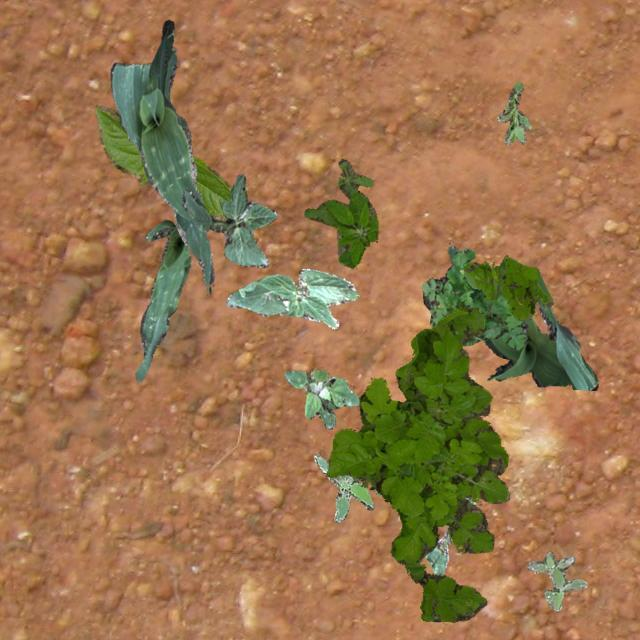crop: (110, 18, 214, 292), (446, 244, 596, 390), (93, 103, 230, 220), (180, 172, 276, 266), (134, 220, 190, 380), (224, 268, 358, 328), (424, 496, 474, 574)
weed: (326, 306, 508, 620), (421, 248, 526, 348), (303, 158, 377, 266), (462, 256, 552, 318), (282, 370, 358, 428), (314, 454, 372, 522), (526, 550, 586, 610), (496, 80, 530, 144)
